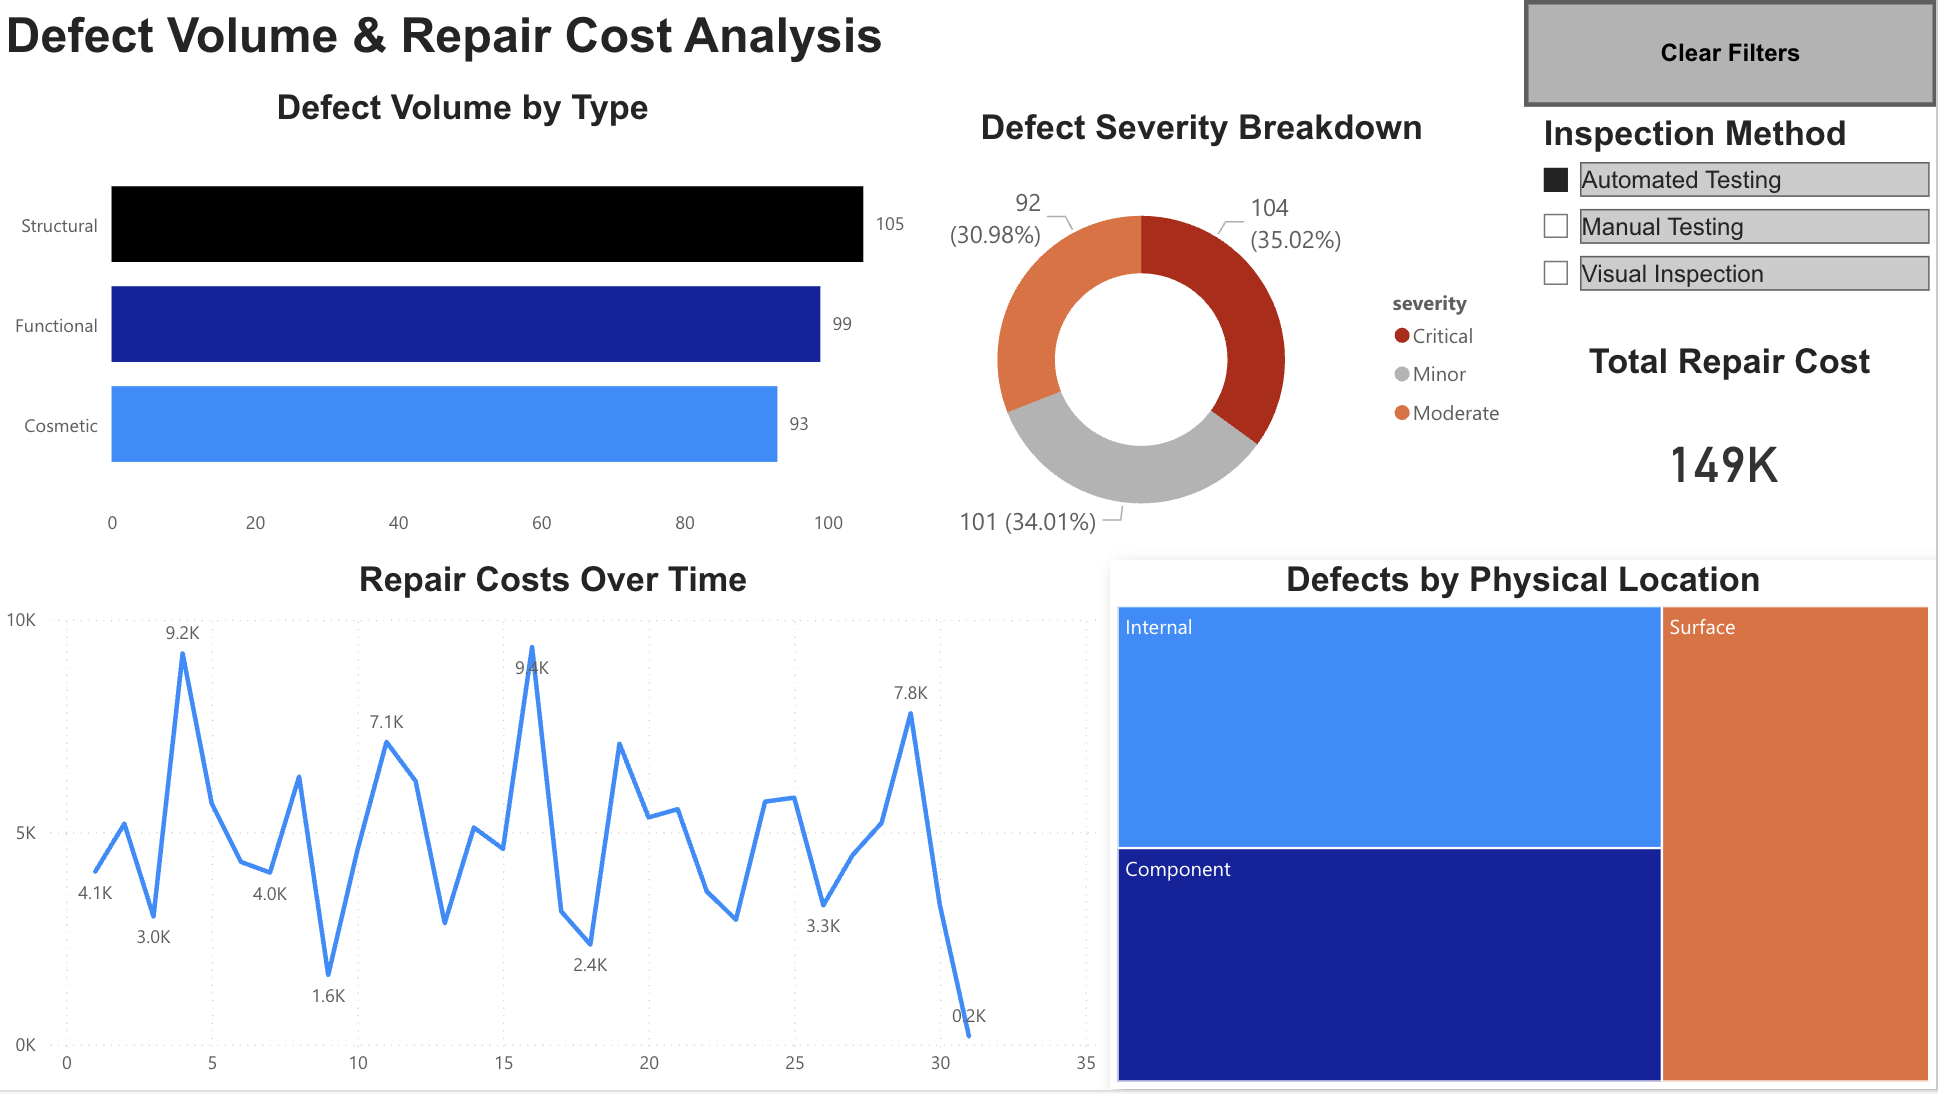

Layout of this report page (visuals, bound fields, positions):
{"tool":"powerbi","page":{"name":"QC","canvas":[1280,720],"ordinal":0},"visuals":[{"type":"barChart","title":"Defect Volume by Type","fields":{"Category":["defects_data 1.defect_type"],"Y":["Count(defects_data 1.defect_id)"]},"box":[0,58.6,613.8,305.2],"z":0},{"type":"donutChart","title":"Defect Severity Breakdown","fields":{"Category":["defects_data 1.severity"],"Y":["Count(defects_data 1.defect_id)"]},"box":[584.5,70.7,422.4,306.9],"z":1000},{"type":"lineChart","title":"Repair Costs Over Time","fields":{"Y":["Sum(defects_data 1.repair_cost)"],"Category":["defects_data 1.defect_date.Variation.Date Hierarchy.Day"]},"box":[0,370,733.3,350],"z":2000},{"type":"treemap","title":"Defects by Physical Location","fields":{"Group":["defects_data 1.defect_location"],"Values":["Sum(defects_data 1.defect_id)"]},"box":[733.9,369.9,546.1,349.5],"z":3000},{"type":"advanceCardE03760C5AB684758B56AA29F9E6C257B","title":"Total Repair Cost","fields":{"mainMeasure":["Sum(defects_data 1.repair_cost)"]},"box":[1007.5,226.2,271.5,134.4],"z":4000},{"type":"slicer","fields":{"Values":["defects_data 1.inspection_method"]},"box":[1007.5,70.5,272.8,155.7],"z":5000},{"type":"actionButton","box":[1007.5,0,272.8,70.5],"z":6000},{"type":"textbox","box":[0,0,1006.9,58.6],"z":6001}]}

Visuals, with their boxes in screenshot pixels (x1, y1, x2, y2), scaled from the page's 1280x720 canvas onto the 1938x1094 screenshot:
"Defect Volume by Type" barChart: detection(0, 89, 929, 553)
"Defect Severity Breakdown" donutChart: detection(885, 107, 1525, 574)
"Repair Costs Over Time" lineChart: detection(0, 562, 1110, 1093)
"Defects by Physical Location" treemap: detection(1111, 562, 1937, 1093)
"Total Repair Cost" advanceCardE03760C5AB684758B56AA29F9E6C257B: detection(1525, 344, 1936, 548)
slicer - defects_data 1.inspection_method: detection(1525, 107, 1937, 344)
actionButton: detection(1525, 0, 1937, 107)
textbox: detection(0, 0, 1525, 89)
